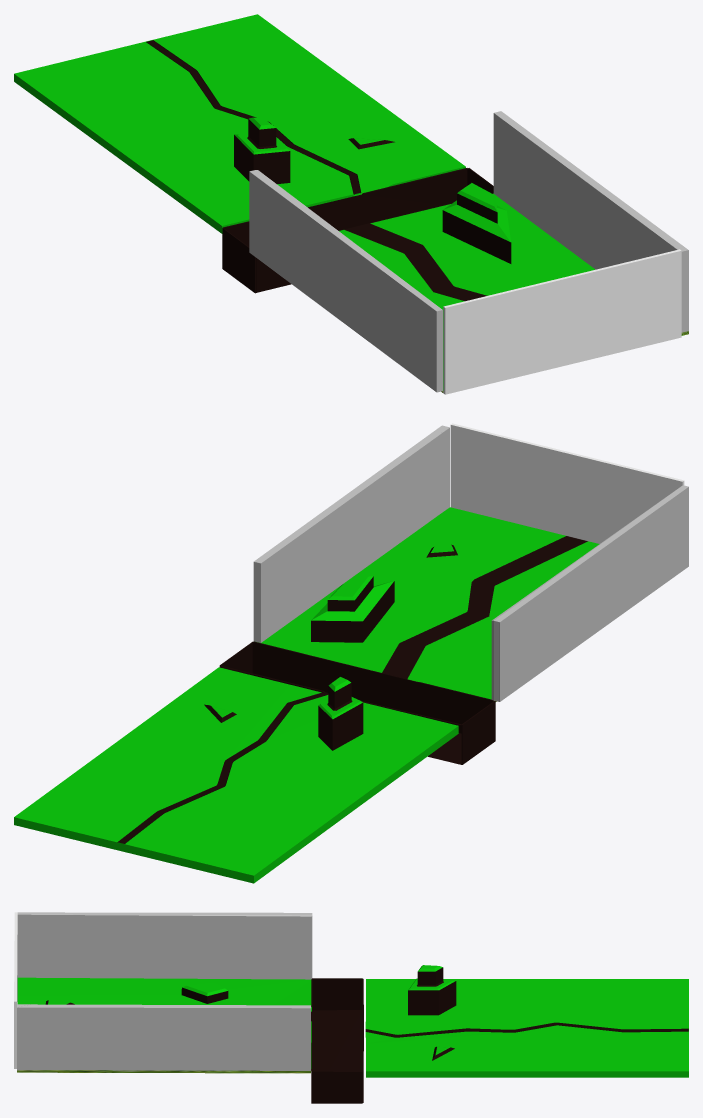
Rendered from GameStage(1).obj.
3 views of the same model, one above another, from view 1: azimuth 30°, elevation 25°; view 2: azimuth 150°, elevation 25°; view 3: azimuth 270°, elevation 25° (orthographic). The views are drawn at different scales.
Parts seen in each view (by area): view 1: Cube.004, Cube.005, Cube.003, Plane.007, Plane.008, Plane.005; view 2: Cube.005, Cube.004, Cube.003, Plane.005, Plane.008; view 3: Cube.005, Cube.004, Plane.006, Plane.009, Plane.008, Cube.003.
Part boxes in pixels (<box>): Cube.004: <box>14,14,465,233</box>; Cube.005: <box>249,111,688,392</box>; Cube.003: <box>443,249,681,394</box>; Plane.007: <box>222,168,468,246</box>; Plane.008: <box>222,228,255,293</box>; Plane.005: <box>256,193,493,292</box>; Cube.005: <box>253,425,688,701</box>; Cube.004: <box>14,667,458,883</box>; Cube.003: <box>450,423,684,543</box>; Plane.005: <box>252,641,493,733</box>; Plane.008: <box>461,701,495,764</box>; Cube.005: <box>17,912,312,1073</box>; Cube.004: <box>365,965,688,1077</box>; Plane.006: <box>312,1010,362,1071</box>; Plane.009: <box>311,1071,362,1103</box>; Plane.008: <box>312,978,362,1010</box>; Cube.003: <box>14,912,17,1068</box>.
Bounding box in the file's own units: 304 × 143 × 898.
